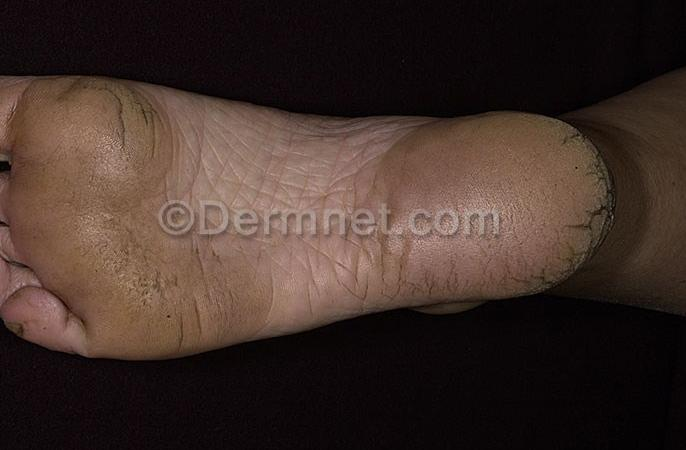liquenificacion 2: (168, 102, 389, 320)
xerosis 3: (344, 125, 614, 317), (67, 78, 194, 352)
